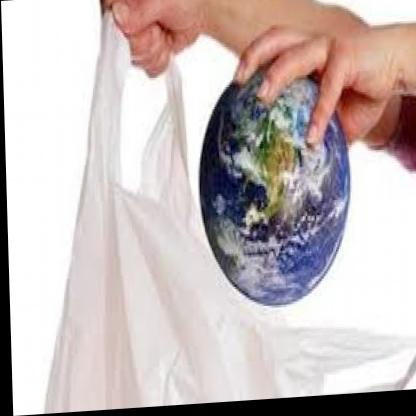Plastic: (24, 0, 405, 415)
